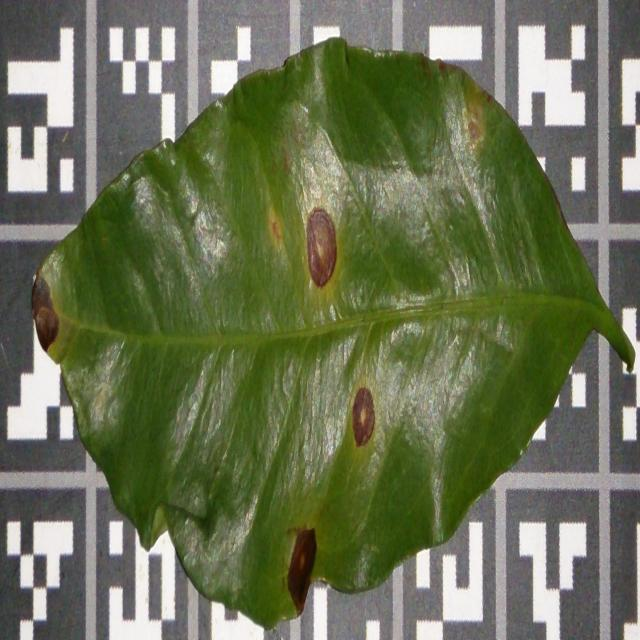Enfermedad-Mancha-de-hierro: (30, 40, 636, 634)
